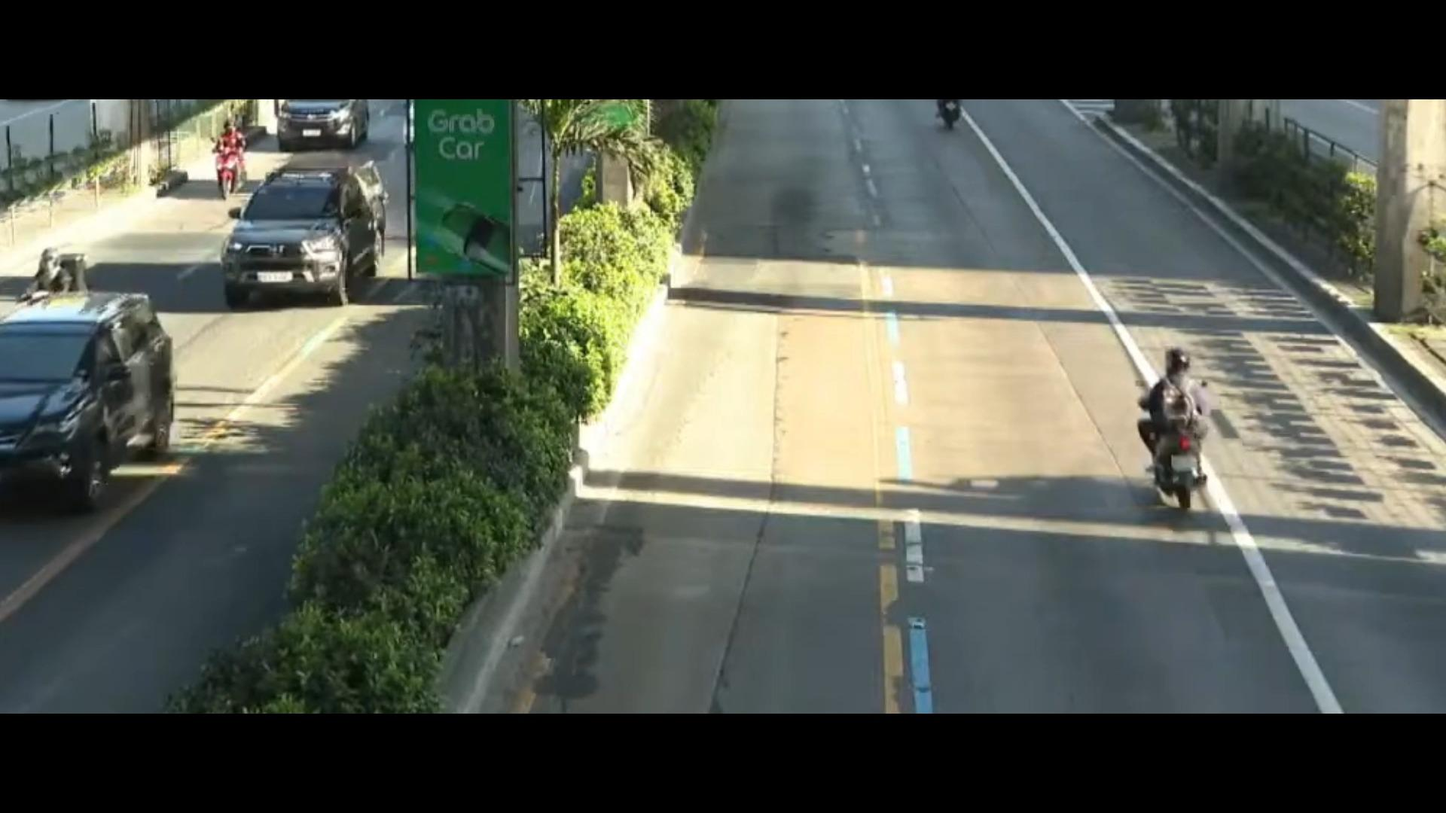Motorcycle: (1125, 337, 1237, 541), (190, 111, 266, 202), (21, 228, 110, 301)
SUV: (0, 283, 211, 536), (211, 140, 398, 319), (266, 98, 375, 149)
